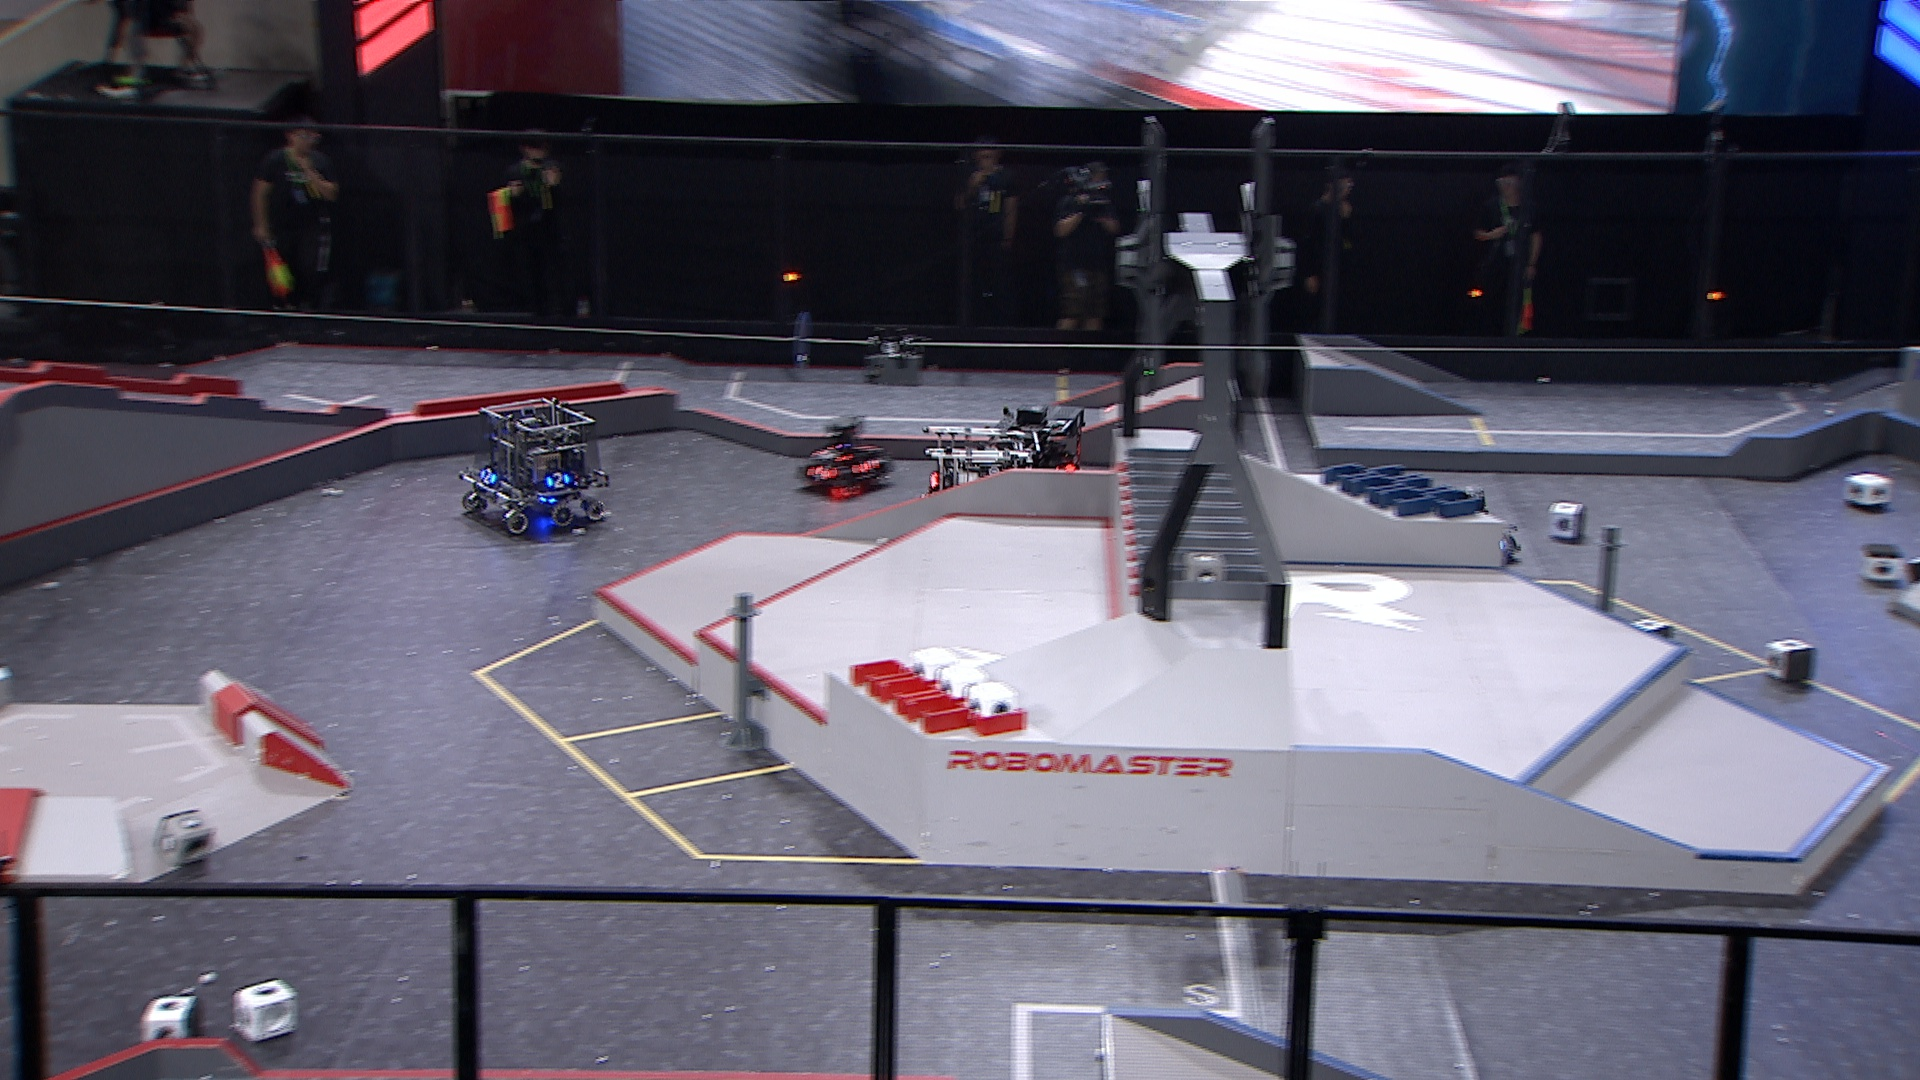armor: (541, 471, 575, 489), (806, 465, 836, 483), (479, 467, 501, 489), (814, 450, 851, 463), (852, 458, 880, 473)
car: (458, 394, 612, 531), (922, 419, 1039, 524), (989, 404, 1095, 506), (794, 409, 898, 496)
